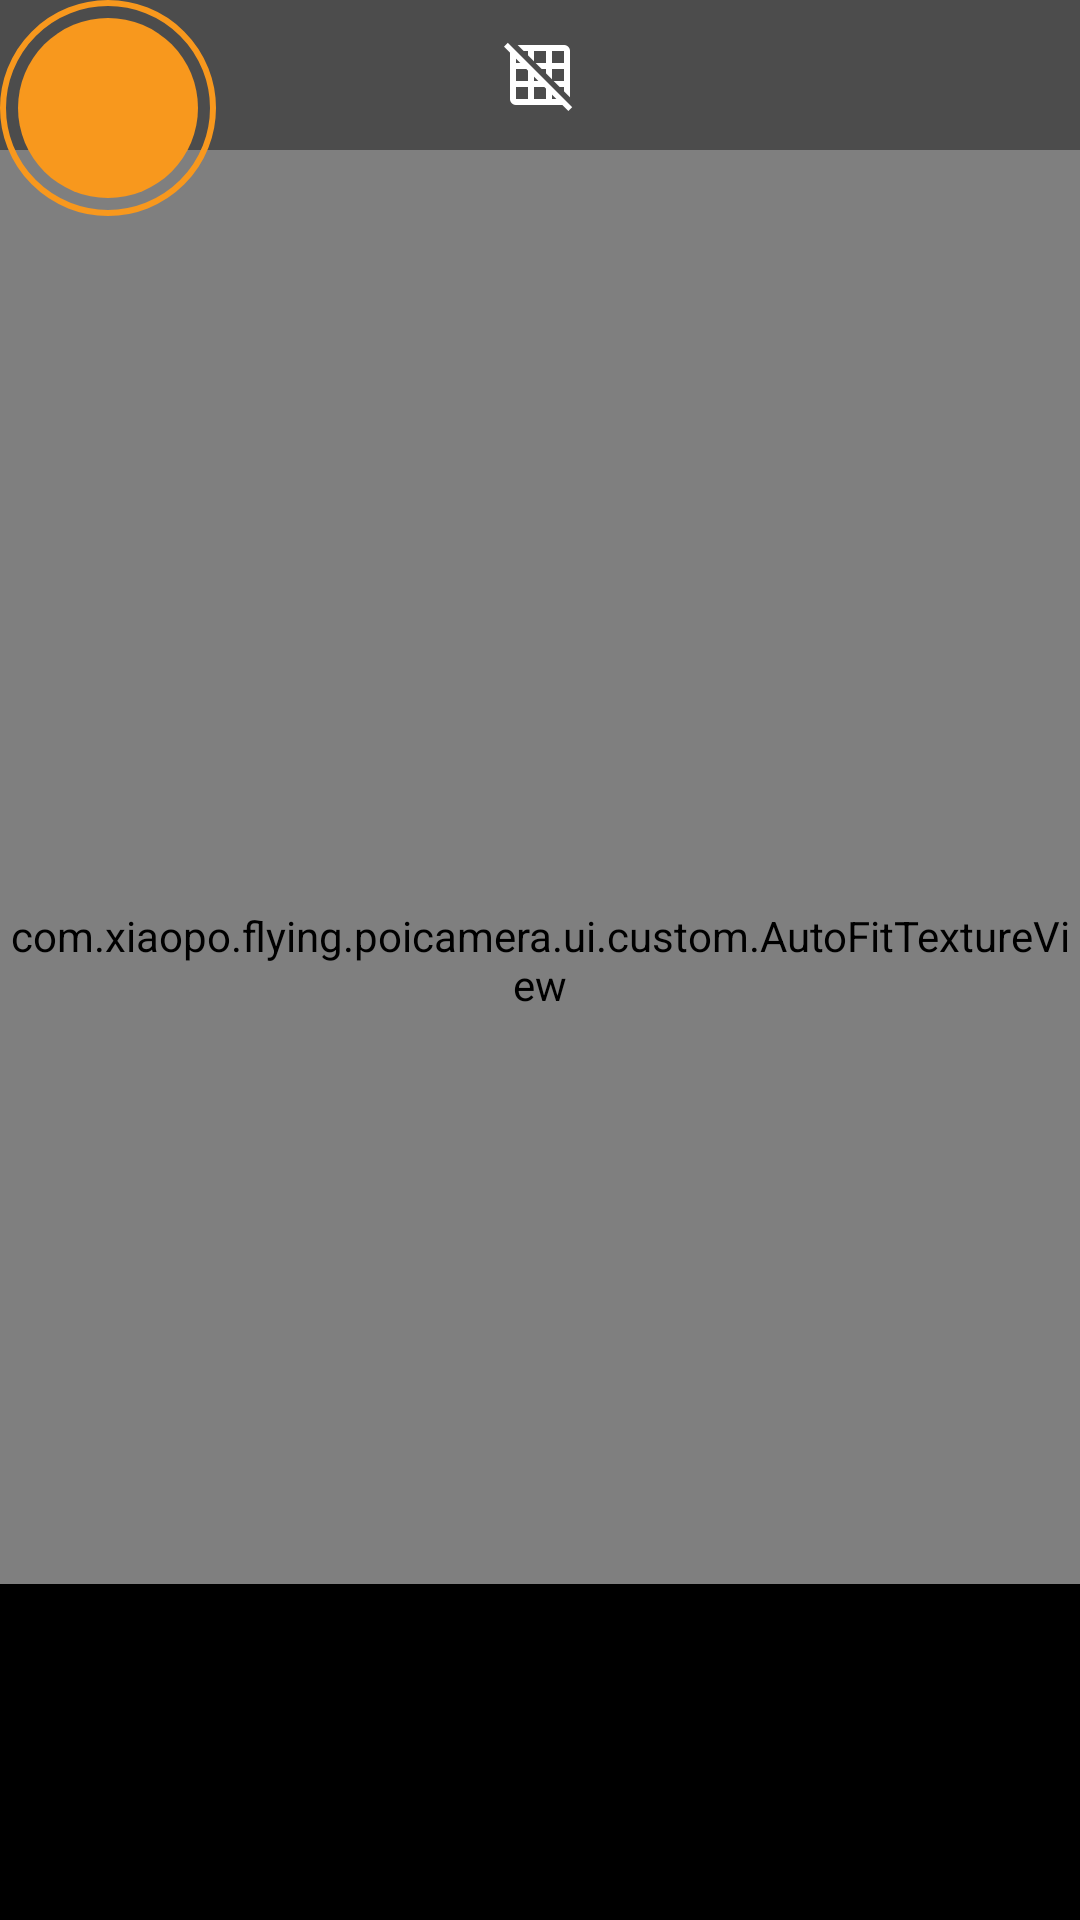

Icon bounding boxes for this 1080px x 1920px phone screenshot, format (x1, y1, x2, y2):
grid off: (504, 43, 572, 111)
